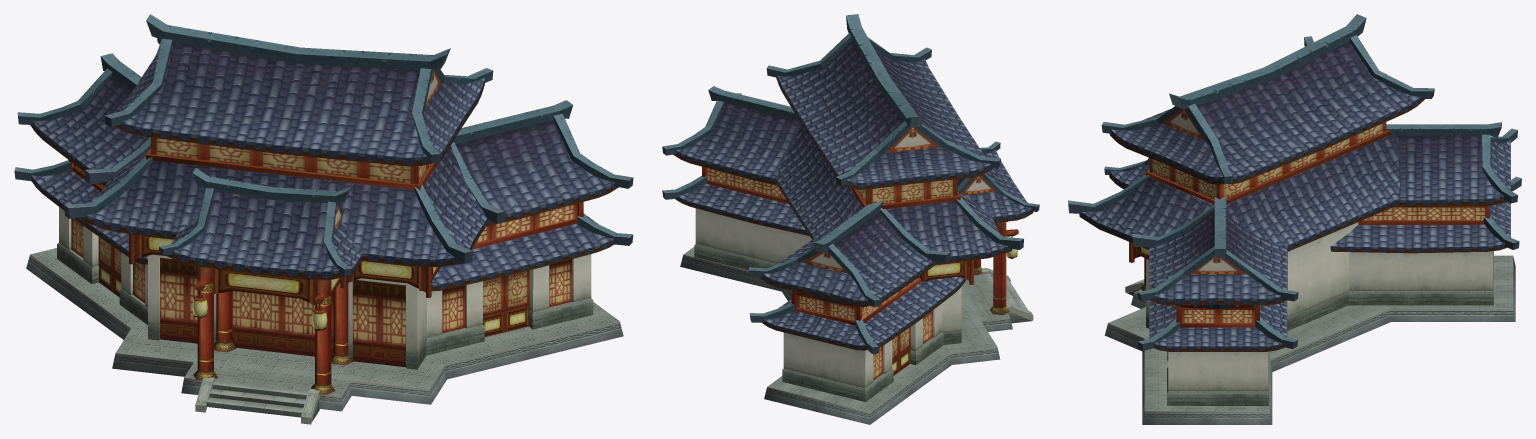
The model's file is szc_building_dangpu20_02.FBX.
3 renders of one model, left to right at view 1: azimuth 30°, elevation 25°; view 2: azimuth 150°, elevation 25°; view 3: azimuth 270°, elevation 25°, orthographic. The views are drawn at different scales.
Parts seen in each view (by area): view 1: szc_building_dangpu20_02; view 2: szc_building_dangpu20_02; view 3: szc_building_dangpu20_02.
Part boxes in pixels (left/top/right/bottom): szc_building_dangpu20_02: left=14, top=14, right=633, bottom=424; szc_building_dangpu20_02: left=662, top=14, right=1039, bottom=424; szc_building_dangpu20_02: left=1068, top=14, right=1521, bottom=424.
Size of the model in its own units: 819 by 528 by 813.
